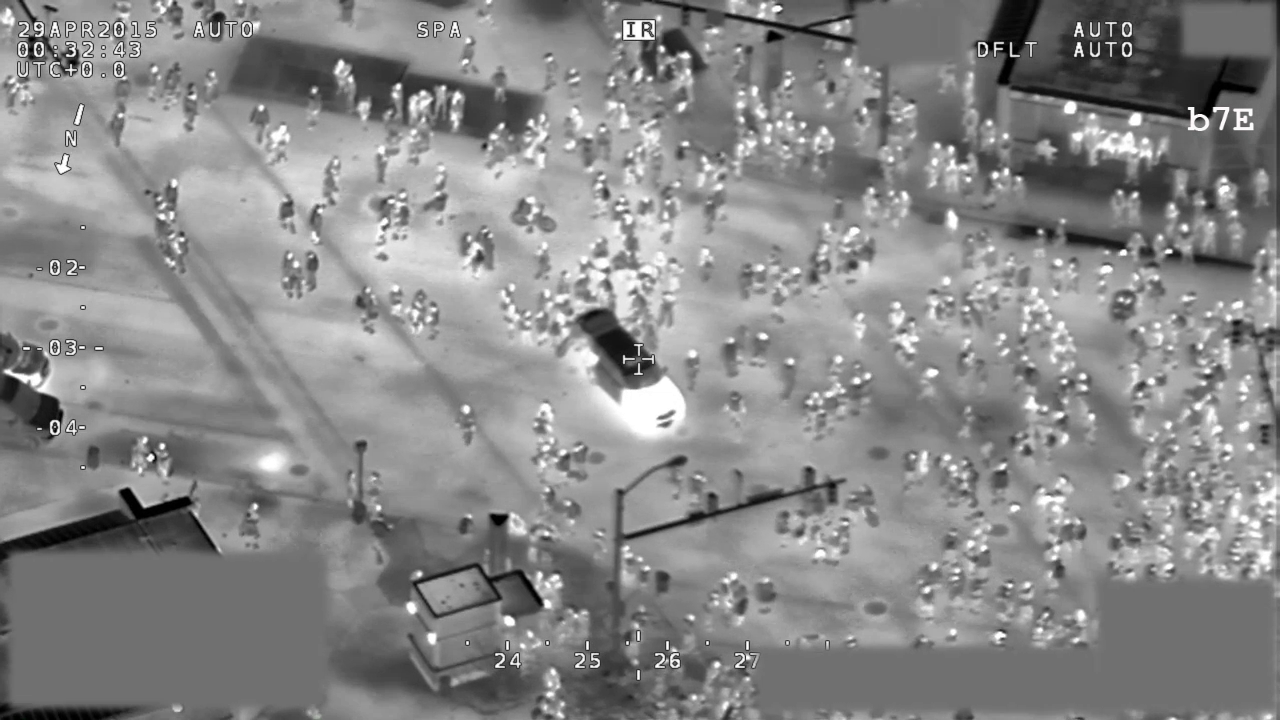vehicle: (564, 301, 691, 443)
